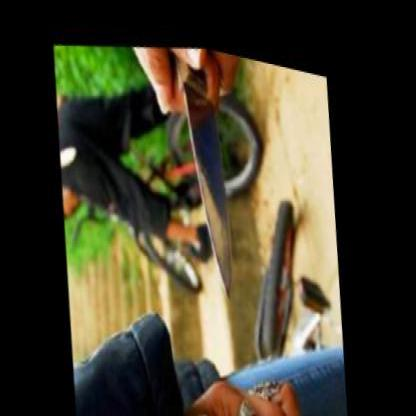knife: (87, 340, 292, 413)
